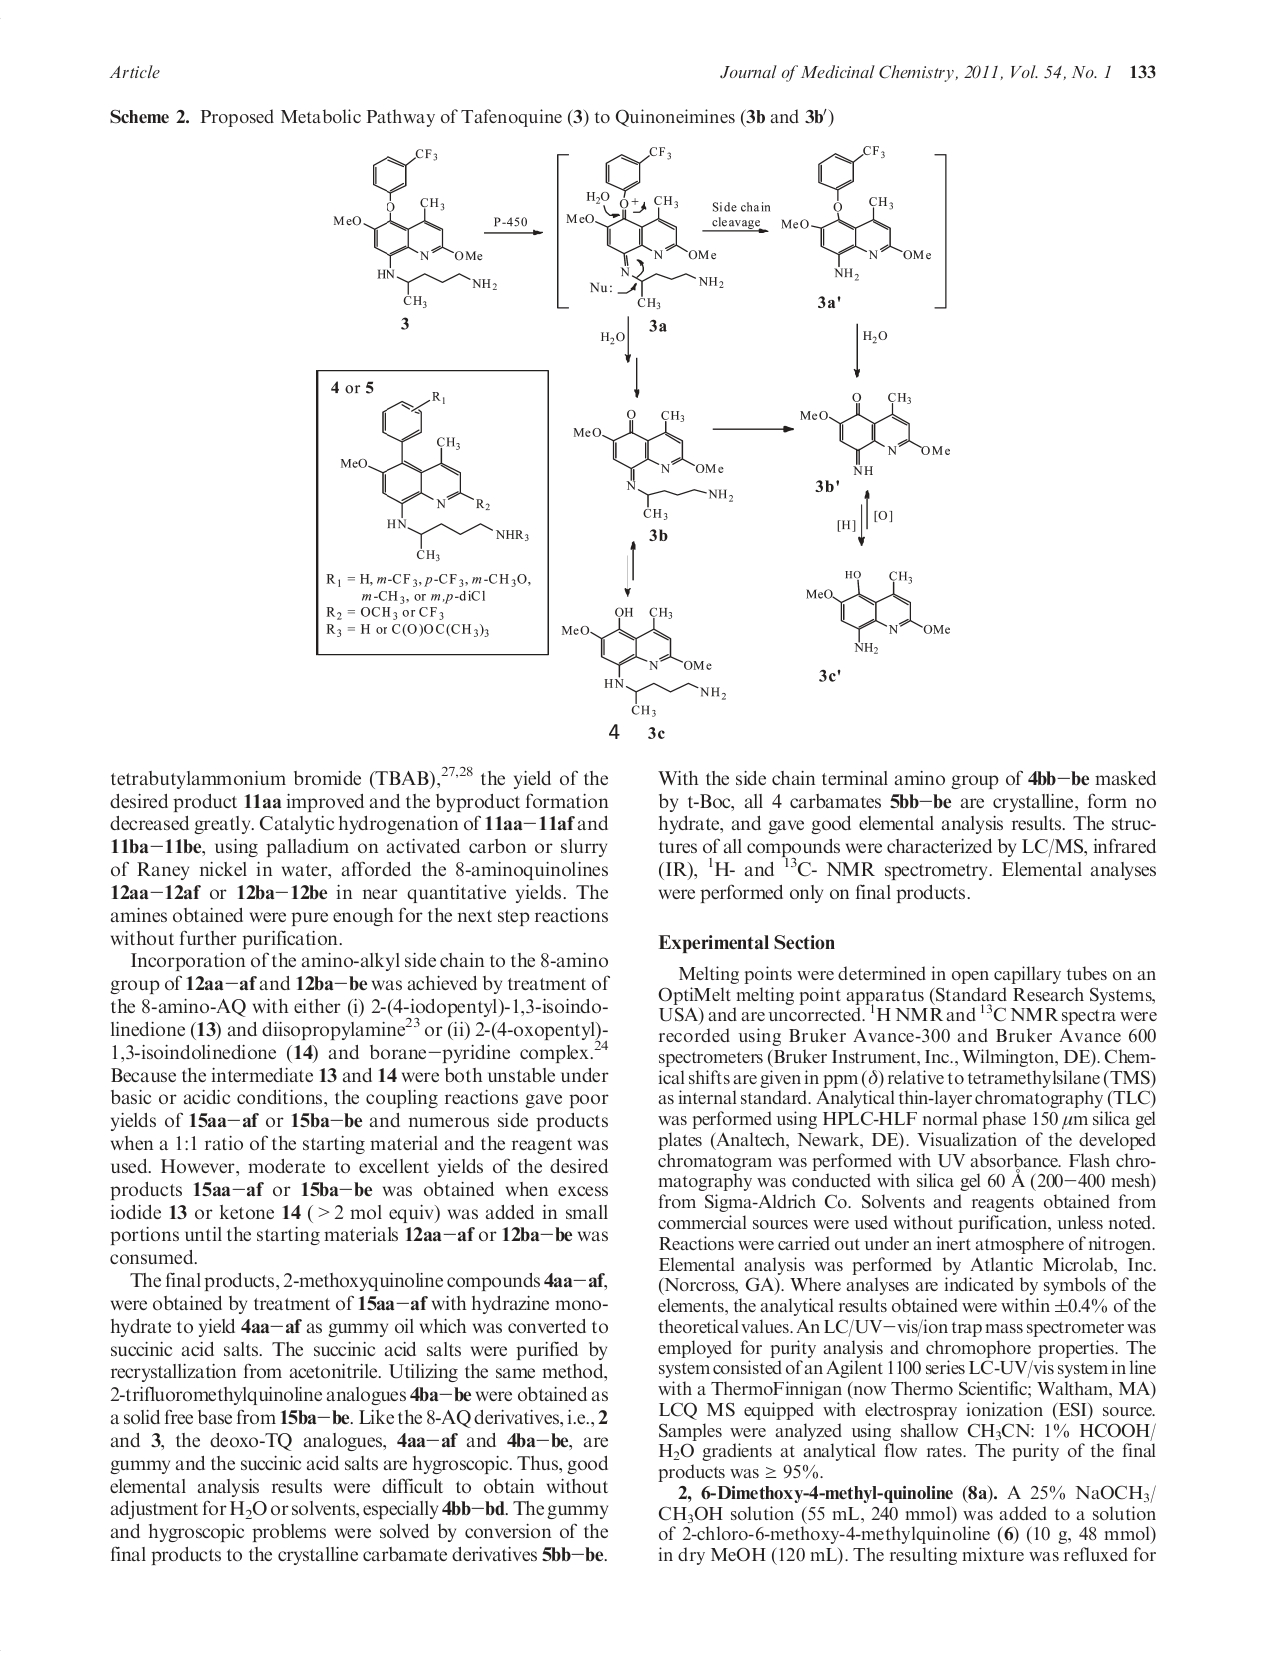exist_molecular: (339, 390, 533, 563), (330, 148, 500, 309), (567, 144, 727, 310), (781, 142, 935, 285), (560, 605, 729, 718), (570, 407, 738, 520), (803, 567, 953, 656), (799, 390, 953, 476)
